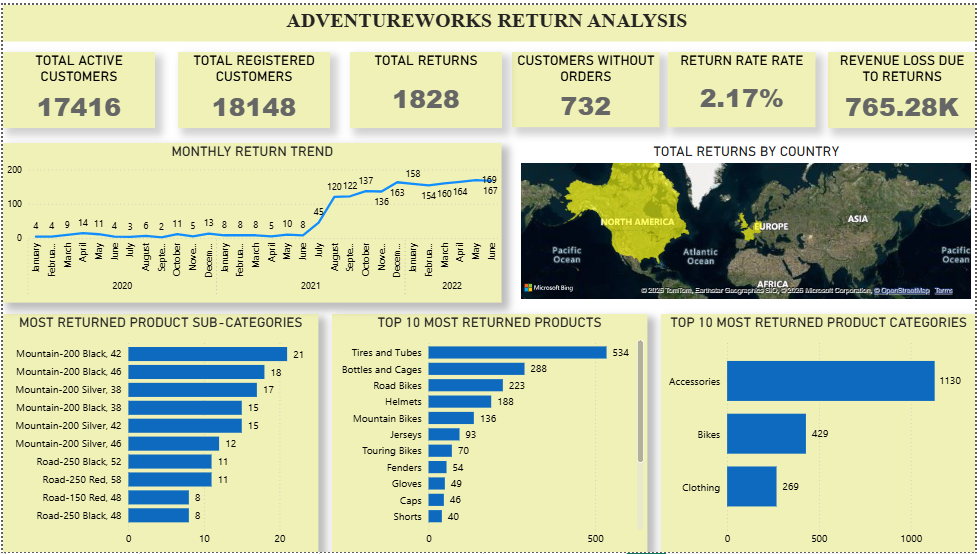

The page's visual inventory and layout, read from the dashboard file:
{"tool":"powerbi","page":{"name":"RETURN ANALYSIS","canvas":[1280,720],"ordinal":3},"visuals":[{"type":"card","title":"TOTAL REGISTERED CUSTOMERS","fields":{"Values":["MeasureHolder.Total Customers"]},"box":[230.4,61.9,200.2,100],"z":0},{"type":"card","title":"TOTAL ACTIVE CUSTOMERS","fields":{"Values":["MeasureHolder.Total Customers"]},"box":[0,61.9,200,100],"z":1000},{"type":"card","title":"CUSTOMERS WITHOUT ORDERS","fields":{"Values":["MeasureHolder.Customers With No Orders"]},"box":[669.6,61.9,194.4,99.4],"z":2000},{"type":"clusteredBarChart","title":" MOST RETURNED PRODUCT SUB-CATEGORIES","fields":{"Category":["products.ProductName"],"Y":["Sum(returns.ReturnQuantity)"]},"box":[0,406.1,415,313.9],"z":3000},{"type":"textbox","box":[0,0,1280.2,47.5],"z":4000},{"type":"card","title":"REVENUE LOSS DUE TO  RETURNS","fields":{"Values":["MeasureHolder.Revenue Lost Due to Returns"]},"box":[1085.8,61.9,195,100],"z":5000},{"type":"card","title":"RETURN RATE RATE","fields":{"Values":["MeasureHolder.Return Rate %"]},"box":[875.5,61.9,194.4,99.4],"z":6000},{"type":"card","title":"TOTAL RETURNS","fields":{"Values":["MeasureHolder.Total Returns"]},"box":[456.5,61.9,200.2,100],"z":7000},{"type":"filledMap","title":"TOTAL RETURNS BY COUNTRY","fields":{"Category":["regions.Country"]},"box":[676.8,181.4,603.4,210.2],"z":8000},{"type":"clusteredBarChart","title":"TOP 10 MOST RETURNED PRODUCTS","fields":{"Y":["Sum(returns.ReturnQuantity)"],"Category":["product_subcategories.SubcategoryName"]},"box":[433.4,406.1,414.7,313.9],"z":9000},{"type":"lineChart","title":"MONTHLY RETURN TREND","fields":{"Category":["returns.ReturnDate.Variation.Date Hierarchy.Year","returns.ReturnDate.Variation.Date Hierarchy.Month"],"Y":["MeasureHolder.Total Returns"]},"box":[0,181.4,656,210],"z":10000},{"type":"clusteredBarChart","title":"TOP 10 MOST RETURNED PRODUCT CATEGORIES","fields":{"Y":["Sum(returns.ReturnQuantity)"],"Category":["product_categories.CategoryName"]},"box":[865.4,406.1,414.7,313.9],"z":11000}]}

Visuals, with their boxes in screenshot pixels (x1, y1, x2, y2), scaled from the page's 1280x720 canvas onto the 977x554 screenshot:
"TOTAL REGISTERED CUSTOMERS" card: detection(176, 48, 329, 125)
"TOTAL ACTIVE CUSTOMERS" card: detection(0, 48, 153, 125)
"CUSTOMERS WITHOUT ORDERS" card: detection(511, 48, 659, 124)
" MOST RETURNED PRODUCT SUB-CATEGORIES" clusteredBarChart: detection(0, 312, 317, 553)
textbox: detection(0, 0, 976, 37)
"REVENUE LOSS DUE TO  RETURNS" card: detection(829, 48, 976, 125)
"RETURN RATE RATE" card: detection(668, 48, 817, 124)
"TOTAL RETURNS" card: detection(348, 48, 501, 125)
"TOTAL RETURNS BY COUNTRY" filledMap: detection(517, 140, 976, 301)
"TOP 10 MOST RETURNED PRODUCTS" clusteredBarChart: detection(331, 312, 647, 553)
"MONTHLY RETURN TREND" lineChart: detection(0, 140, 501, 301)
"TOP 10 MOST RETURNED PRODUCT CATEGORIES" clusteredBarChart: detection(661, 312, 976, 553)
